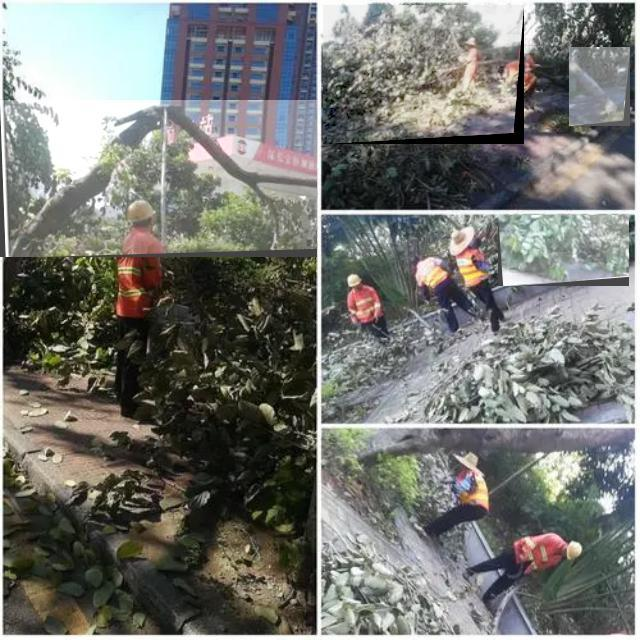fallen_tree: (0, 100, 318, 258), (323, 5, 525, 145), (498, 215, 630, 287), (569, 47, 631, 127)
